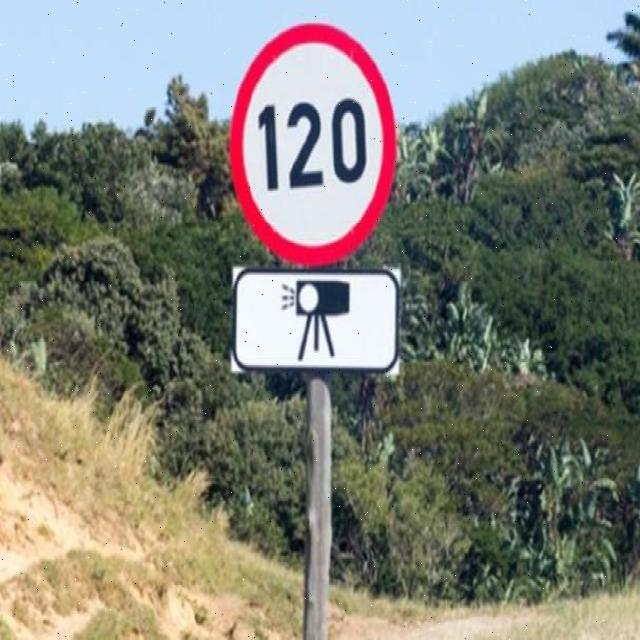speed limit 120: (228, 24, 397, 263)
